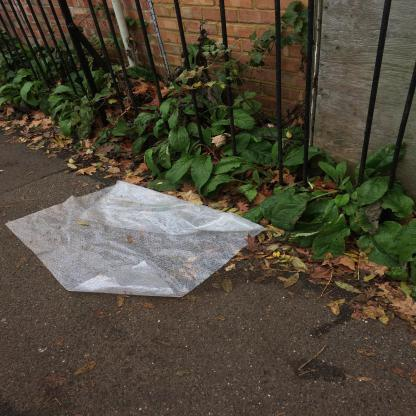plastik: (5, 181, 269, 300)
